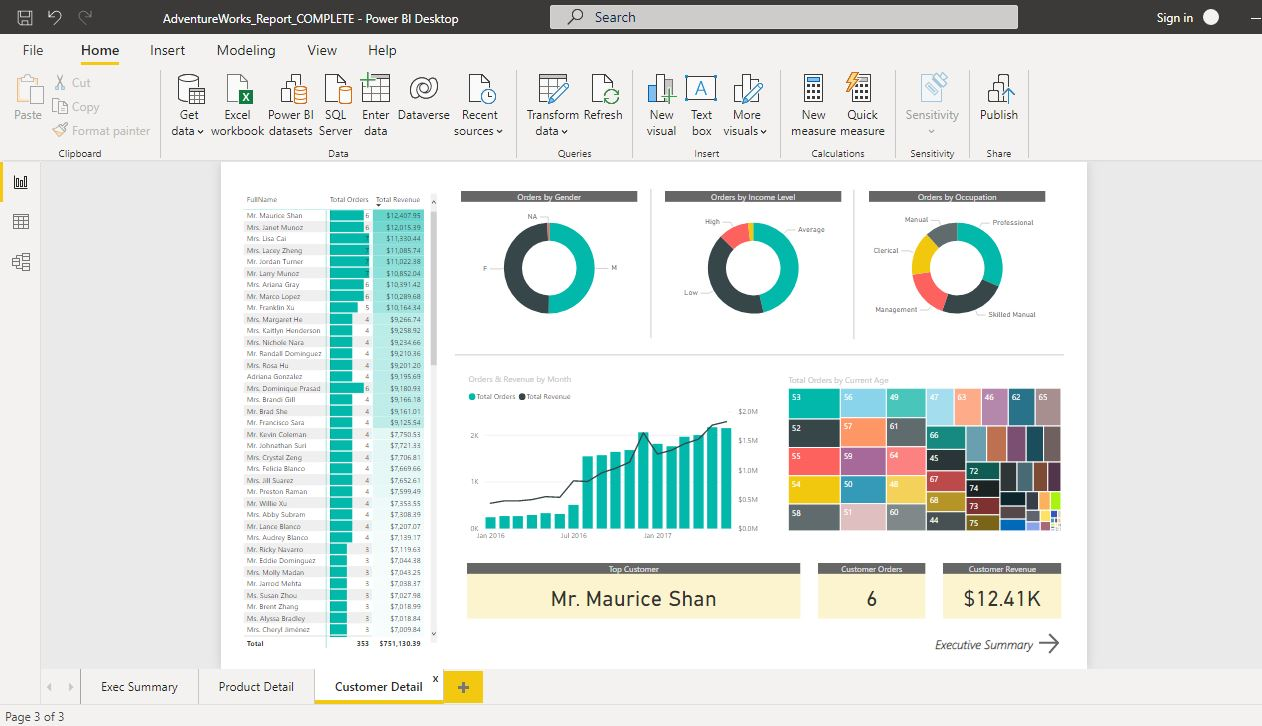

The page's visual inventory and layout, read from the dashboard file:
{"tool":"powerbi","page":{"name":"Customer Detail","canvas":[1280,720],"ordinal":2},"visuals":[{"type":"pivotTable","fields":{"Values":["AW_Sales.Total Orders","AW_Sales.Total Revenue"],"Rows":["AW_Customer_Lookup.FullName"]},"box":[27.7,12.1,296.3,682.9],"z":1},{"type":"donutChart","fields":{"Y":["AW_Sales.Total Orders"],"Category":["AW_Customer_Lookup.Gender"]},"box":[354.6,13.7,260.6,211.6],"z":2},{"type":"donutChart","fields":{"Y":["AW_Sales.Total Orders"],"Category":["AW_Customer_Lookup.IncomeLevel"]},"box":[656.1,13.7,260.8,211.6],"z":2},{"type":"donutChart","fields":{"Y":["AW_Sales.Total Orders"],"Category":["AW_Customer_Lookup.Occupation"]},"box":[957.9,13.7,260.8,211.6],"z":2},{"type":"lineClusteredColumnComboChart","fields":{"Y":["AW_Sales.Total Orders"],"Y2":["AW_Sales.Total Revenue"],"Category":["AW_Calendar_Lookup.Start of Month"]},"box":[360.6,282.5,439,258.5],"z":5},{"type":"treemap","fields":{"Values":["AW_Sales.Total Orders"],"Group":["AW_Customer_Lookup.Current Age"]},"box":[833.9,284.6,412.9,237],"z":6},{"type":"card","fields":{"Values":["Min(AW_Customer_Lookup.FullName)"]},"box":[363.8,562.8,493,82.4],"z":7},{"type":"card","fields":{"Values":["AW_Sales.Total Orders"]},"box":[881.9,562.8,159,82.4],"z":7},{"type":"card","fields":{"Values":["AW_Sales.Total Revenue"]},"box":[1066.8,562.8,175.5,82.4],"z":7},{"type":"textbox","box":[1025.8,667.1,179.6,45.8],"z":10},{"type":"actionButton","box":[1203.4,663,48,40],"z":11},{"type":"basicShape","box":[612,0.7,46.9,241.4],"z":12},{"type":"basicShape","box":[912.8,1.1,46.9,241.4],"z":12},{"type":"basicShape","box":[336.3,236.8,920.8,37.7],"z":12}]}

Visuals, with their boxes on the page's 1280x720 design canvas (x1, y1, x2, y2). These are canvas units, not pixel positions in the 1262x726 screenshot, which may show the page scaled, cropped or inside an application window:
pivotTable - AW_Sales.Total Orders x AW_Sales.Total Revenue: [x1=28, y1=12, x2=324, y2=695]
donutChart - AW_Sales.Total Orders x AW_Customer_Lookup.Gender: [x1=355, y1=14, x2=615, y2=225]
donutChart - AW_Sales.Total Orders x AW_Customer_Lookup.IncomeLevel: [x1=656, y1=14, x2=917, y2=225]
donutChart - AW_Sales.Total Orders x AW_Customer_Lookup.Occupation: [x1=958, y1=14, x2=1219, y2=225]
lineClusteredColumnComboChart - AW_Sales.Total Orders x AW_Sales.Total Revenue: [x1=361, y1=282, x2=800, y2=541]
treemap - AW_Sales.Total Orders x AW_Customer_Lookup.Current Age: [x1=834, y1=285, x2=1247, y2=522]
card - Min(AW_Customer_Lookup.FullName): [x1=364, y1=563, x2=857, y2=645]
card - AW_Sales.Total Orders: [x1=882, y1=563, x2=1041, y2=645]
card - AW_Sales.Total Revenue: [x1=1067, y1=563, x2=1242, y2=645]
textbox: [x1=1026, y1=667, x2=1205, y2=713]
actionButton: [x1=1203, y1=663, x2=1251, y2=703]
basicShape: [x1=612, y1=1, x2=659, y2=242]
basicShape: [x1=913, y1=1, x2=960, y2=242]
basicShape: [x1=336, y1=237, x2=1257, y2=274]
